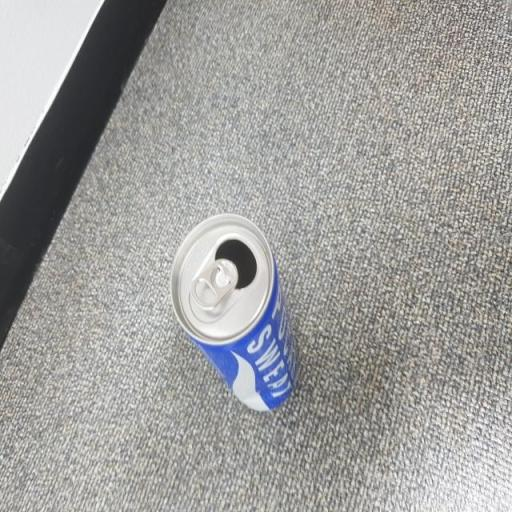metal: (164, 198, 310, 436)
